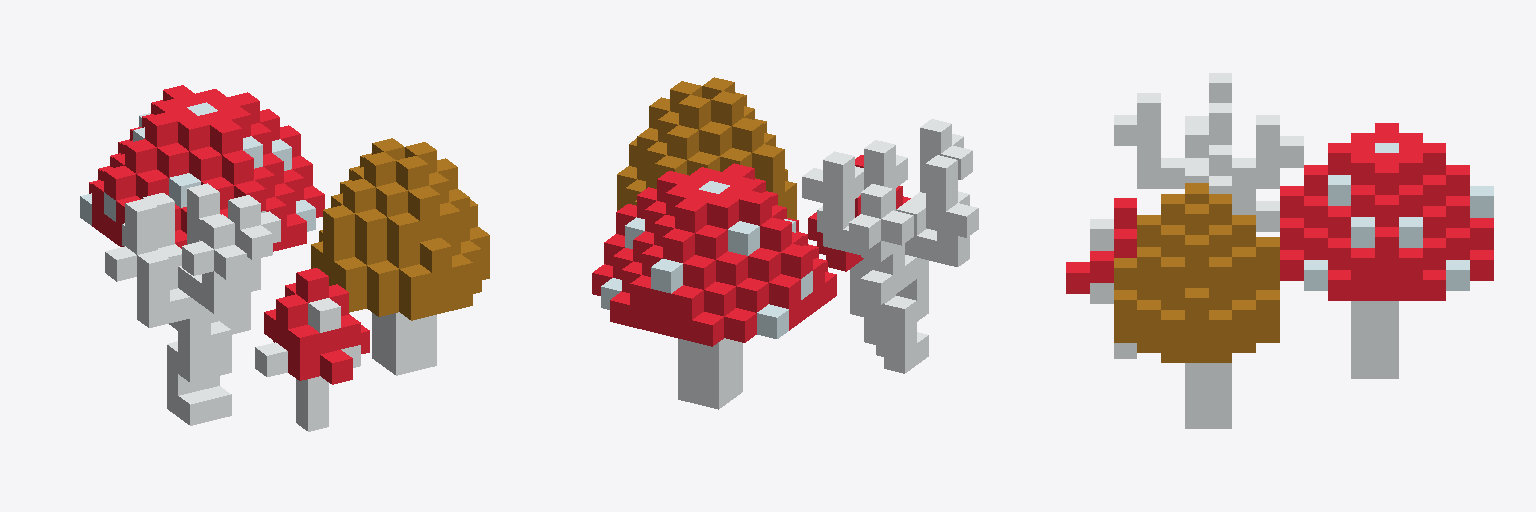
3 views of the same model, side by side, from view 1: azimuth 30°, elevation 25°; view 2: azimuth 150°, elevation 25°; view 3: azimuth 270°, elevation 25° (orthographic).
Parts seen in each view (by area): view 1: Env_Obj_Clutter_MushroomCluster; view 2: Env_Obj_Clutter_MushroomCluster; view 3: Env_Obj_Clutter_MushroomCluster.
Part boxes in pixels (bbox=[...]): Env_Obj_Clutter_MushroomCluster: bbox=[80, 85, 489, 431]; Env_Obj_Clutter_MushroomCluster: bbox=[592, 77, 978, 409]; Env_Obj_Clutter_MushroomCluster: bbox=[1066, 73, 1493, 428].
Size of the model in its own units: 1.7 by 1 by 1.8.
Materials: 1 (1 with a texture image).